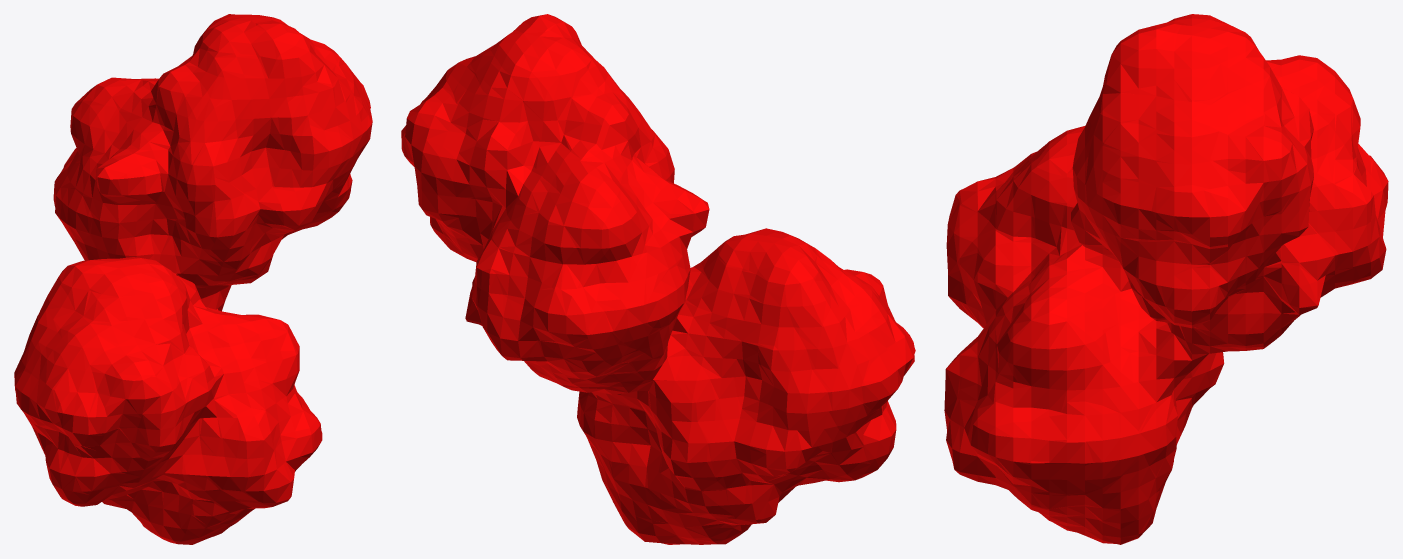
Rendered from ycgM_coarse.dae.
The picture shows the model from 3 angles, left to right: view 1: azimuth 30°, elevation 25°; view 2: azimuth 150°, elevation 25°; view 3: azimuth 270°, elevation 25°; orthographic projection. The views are drawn at different scales.
Visible parts, largest first — view 1: ycgM; view 2: ycgM; view 3: ycgM.
Boxes of the visible parts, x1,y1,x2,y2 form: ycgM: (14,14,372,544); ycgM: (401,14,915,544); ycgM: (944,14,1388,544).
Bounding box in the file's own units: 91.13 × 105 × 74.31.
